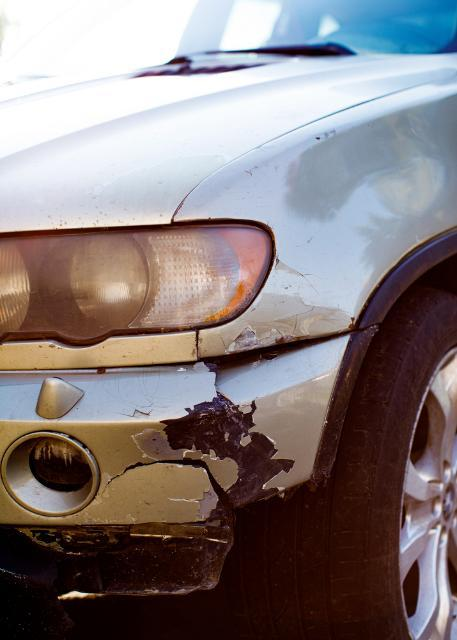crack: (101, 459, 227, 498), (226, 326, 294, 354), (201, 360, 219, 395), (133, 411, 149, 419)
dent: (200, 293, 351, 357), (373, 109, 447, 213)
no part: (215, 477, 317, 590)
scratch: (137, 395, 296, 501), (276, 259, 302, 277)
